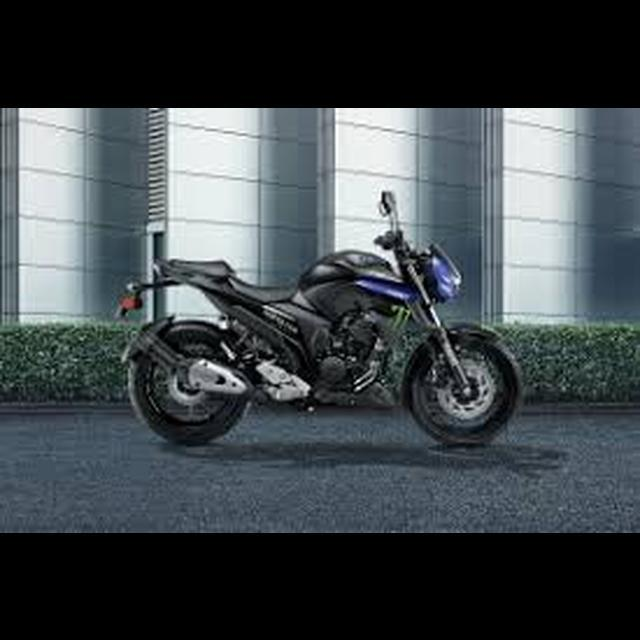motorcycle: (117, 187, 532, 453)
